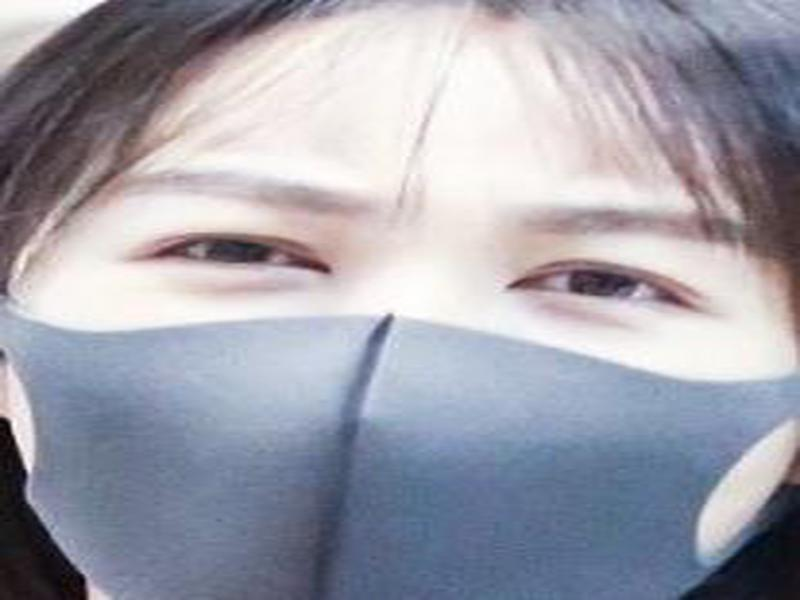with_mask: (6, 1, 797, 597)
